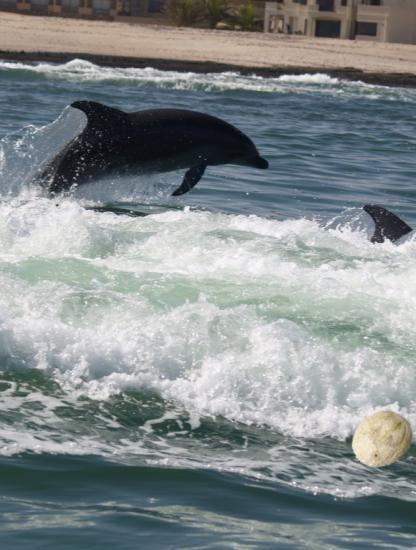Cantaloupe: (349, 406, 414, 471)
